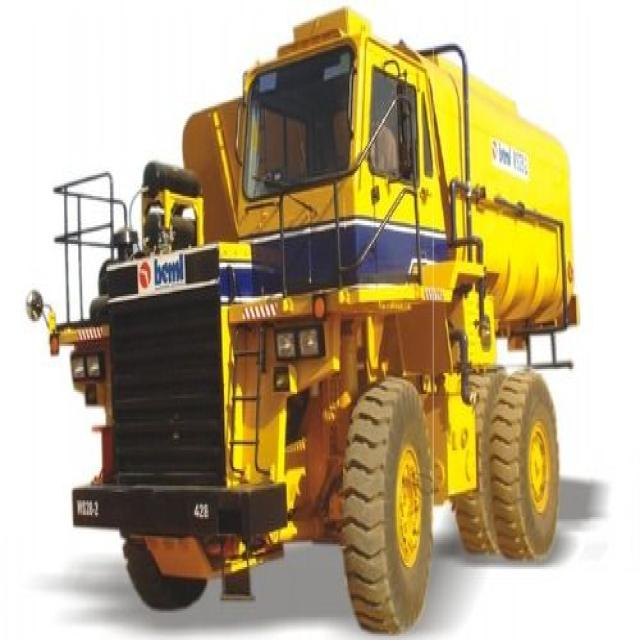dump_truck: (44, 6, 584, 618)
